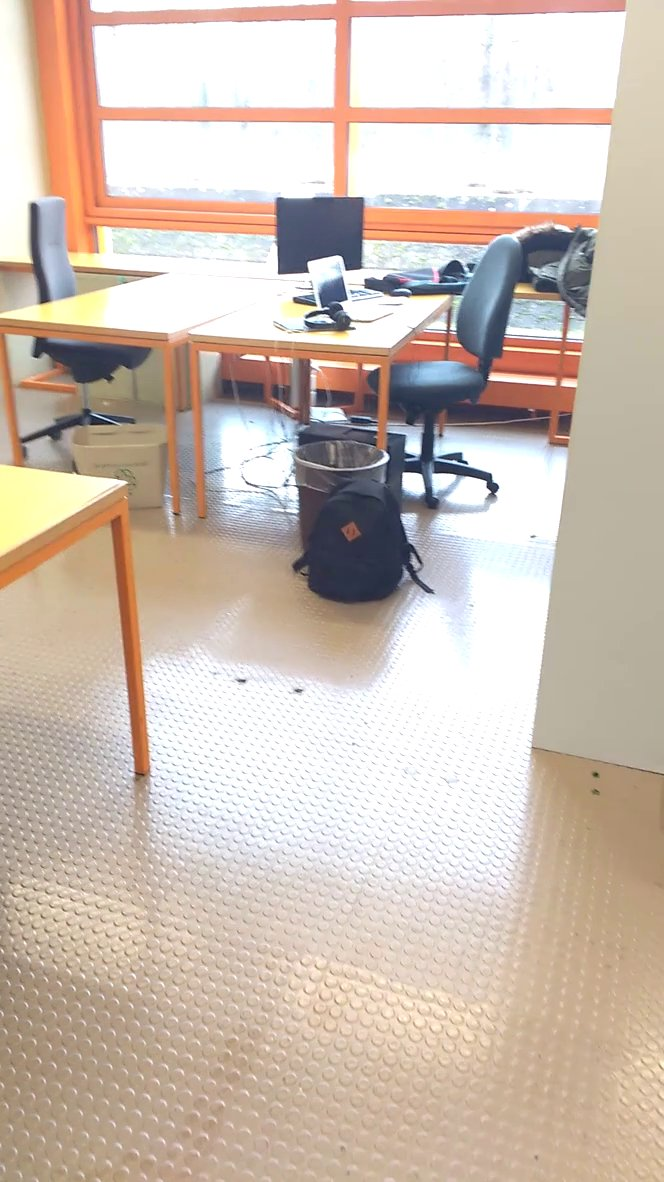bag: (291, 469, 440, 613)
bin: (287, 440, 402, 506)
box: (57, 419, 184, 517)
chair: (362, 231, 536, 466), (13, 174, 151, 381)
laptop: (303, 247, 403, 326)
